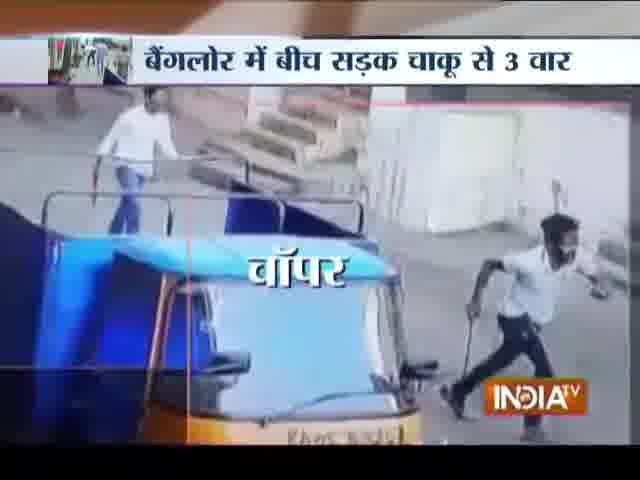knife: (460, 312, 477, 382), (88, 163, 103, 206)
knife in hand: (444, 259, 515, 392), (72, 112, 135, 225)
person: (478, 203, 613, 416), (108, 85, 190, 230)
